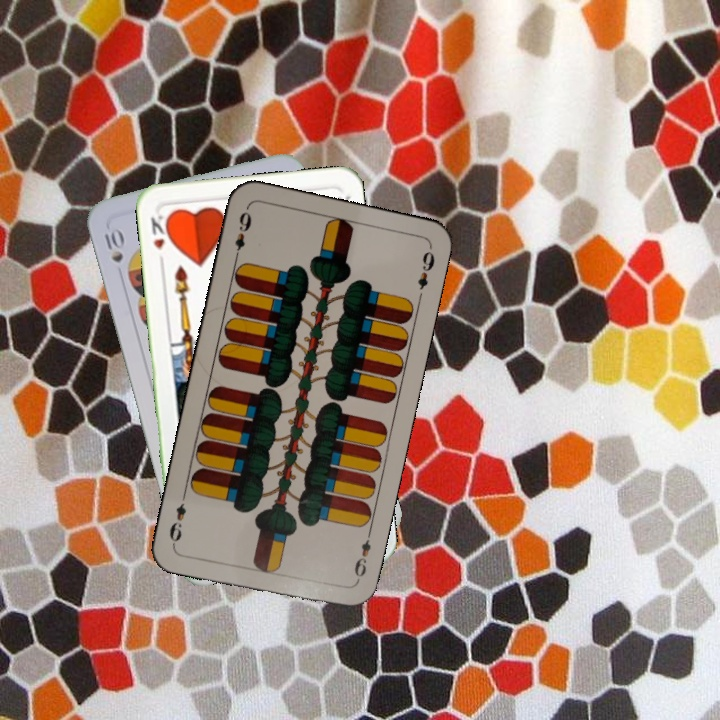E9: (230, 204, 254, 263), (350, 528, 374, 587)
HK: (147, 211, 173, 267)
S10: (100, 224, 126, 266)
